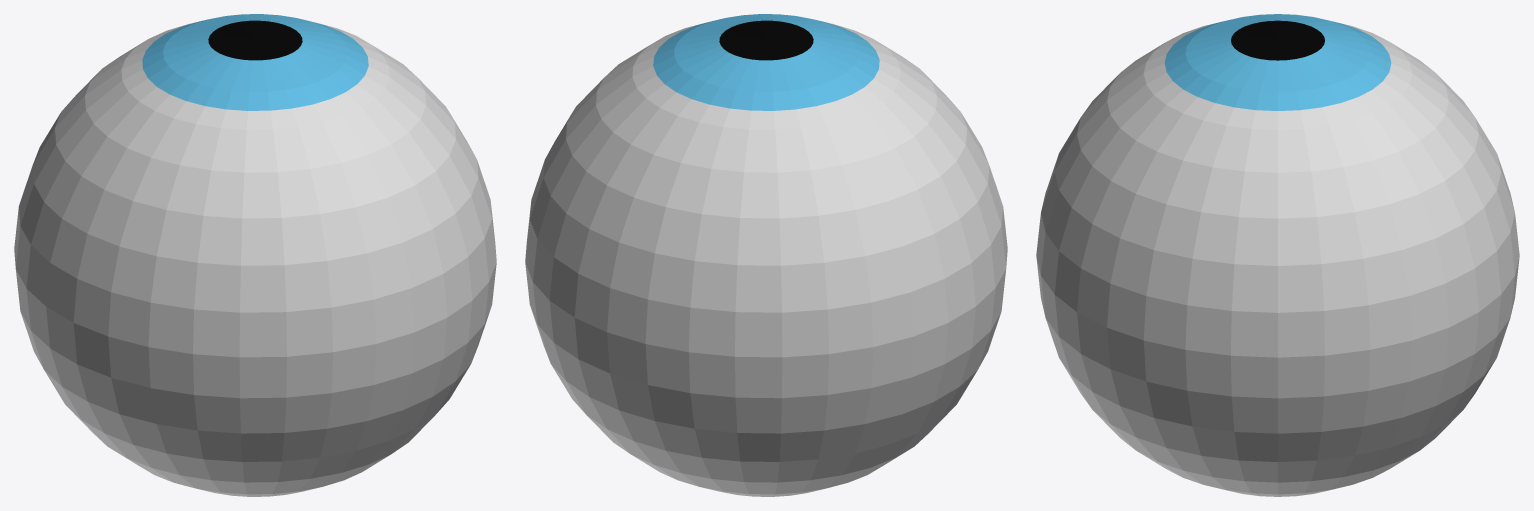
File: low_poly_eyeball.glb
3 views of the same model, side by side, from view 1: azimuth 30°, elevation 25°; view 2: azimuth 150°, elevation 25°; view 3: azimuth 270°, elevation 25° (orthographic).
Visible parts, largest first — view 1: Sphere_0; view 2: Sphere_0; view 3: Sphere_0.
Part boxes in pixels (x1=…): Sphere_0: x1=14, y1=14, x2=496, y2=496; Sphere_0: x1=525, y1=14, x2=1007, y2=496; Sphere_0: x1=1036, y1=14, x2=1519, y2=496.
Bounding box in the file's own units: 2 × 1.98 × 2.
